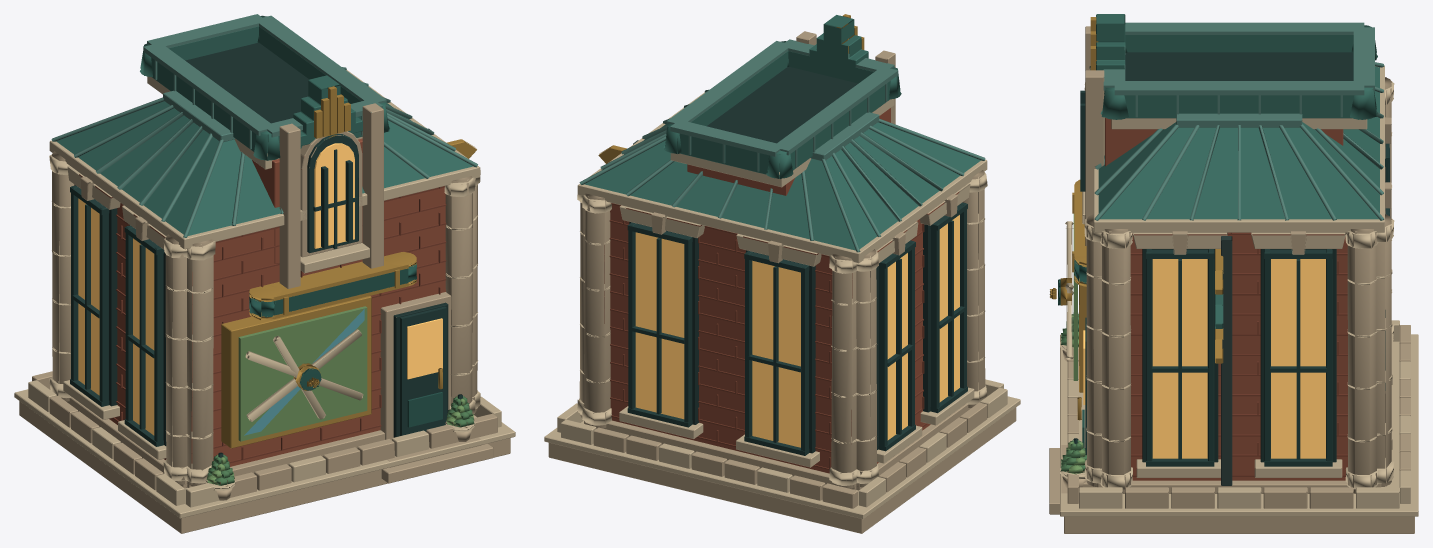
The picture shows the model from 3 angles, left to right: view 1: azimuth 30°, elevation 25°; view 2: azimuth 150°, elevation 25°; view 3: azimuth 270°, elevation 25°; orthographic projection. The views are drawn at different scales.
Visible parts, largest first — view 1: expansion_junction_hub_geometry; view 2: expansion_junction_hub_geometry; view 3: expansion_junction_hub_geometry.
Boxes of the visible parts, box(x1,y1,x2,y2) form: expansion_junction_hub_geometry: box(14, 14, 515, 533); expansion_junction_hub_geometry: box(544, 14, 1020, 533); expansion_junction_hub_geometry: box(1049, 14, 1418, 533).
Bounding box in the file's own units: 1.04 × 1.07 × 0.8328.
